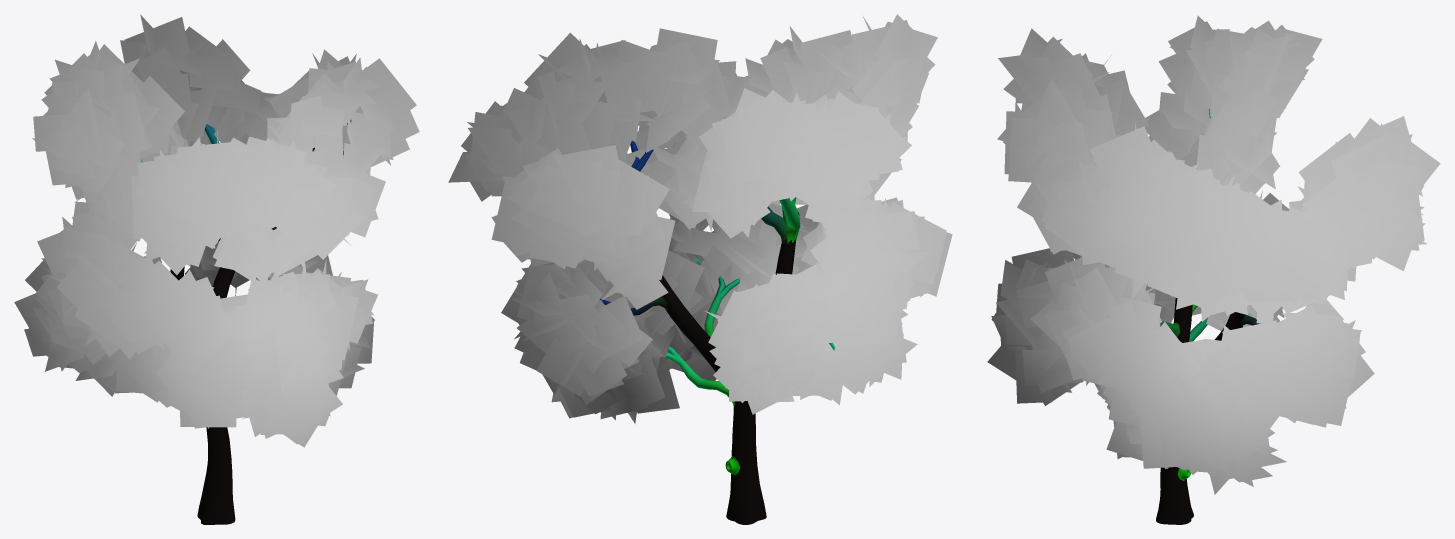
File: F1_Tree3.glb
3 views of the same model, side by side, from view 1: azimuth 30°, elevation 25°; view 2: azimuth 150°, elevation 25°; view 3: azimuth 270°, elevation 25° (orthographic). The views are drawn at different scales.
Parts seen in each view (by area): view 1: F1_L3, F1_Tree3; view 2: F1_L3, F1_Tree3; view 3: F1_L3, F1_Tree3.
Part boxes in pixels (x1,y1,x2,y2): F1_L3: (14, 14, 419, 447); F1_Tree3: (140, 120, 351, 524); F1_L3: (448, 14, 952, 423); F1_Tree3: (600, 140, 835, 524); F1_L3: (987, 15, 1440, 494); F1_Tree3: (1156, 109, 1259, 524).
Bounding box in the file's own units: 9.81 × 10.71 × 9.61.
